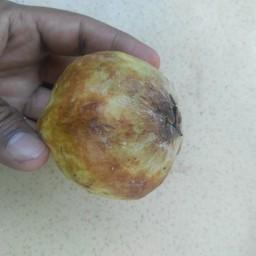Bad_guava: (38, 53, 183, 198)
